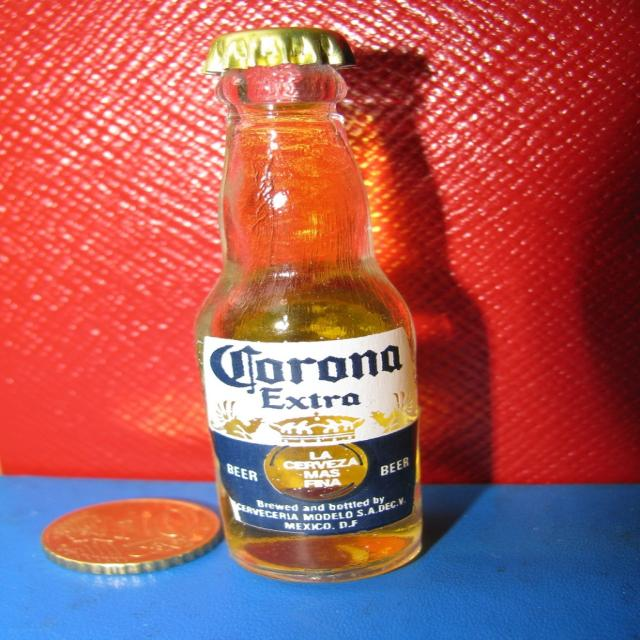corona: (203, 328, 421, 537)
